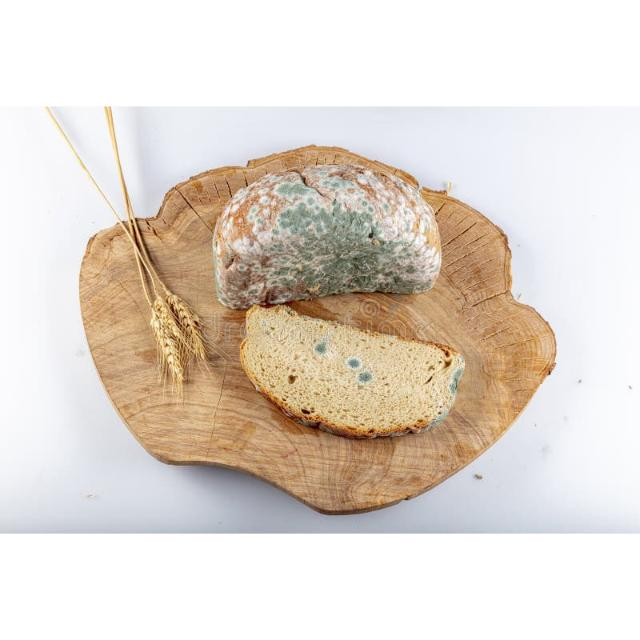organic: (78, 146, 559, 517)
